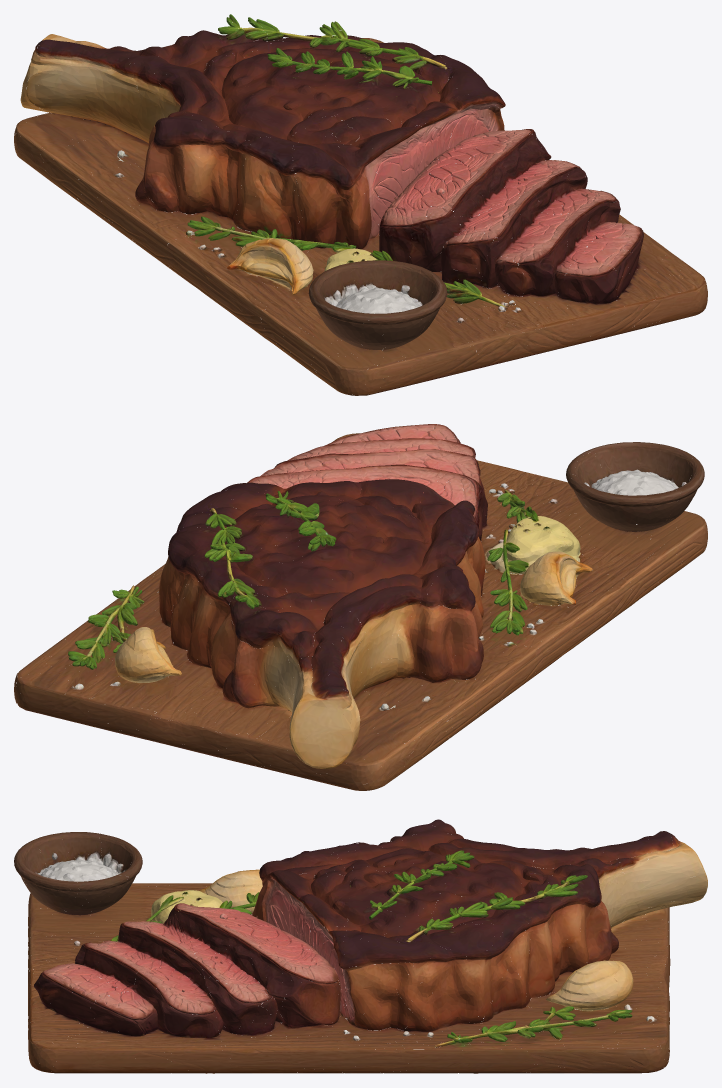
File: grilled-steak.glb
3 views of the same model, one above another, from view 1: azimuth 30°, elevation 25°; view 2: azimuth 150°, elevation 25°; view 3: azimuth 270°, elevation 25° (orthographic). The views are drawn at different scales.
Parts seen in each view (by area): view 1: world; view 2: world; view 3: world.
Part boxes in pixels (x1,y1,x2,y2): world: [14, 14, 707, 395]; world: [14, 424, 707, 790]; world: [14, 819, 707, 1073].
Bounding box in the file's own units: 0.1619 × 0.0588 × 0.28.
Materials: 1 (1 with a texture image).
